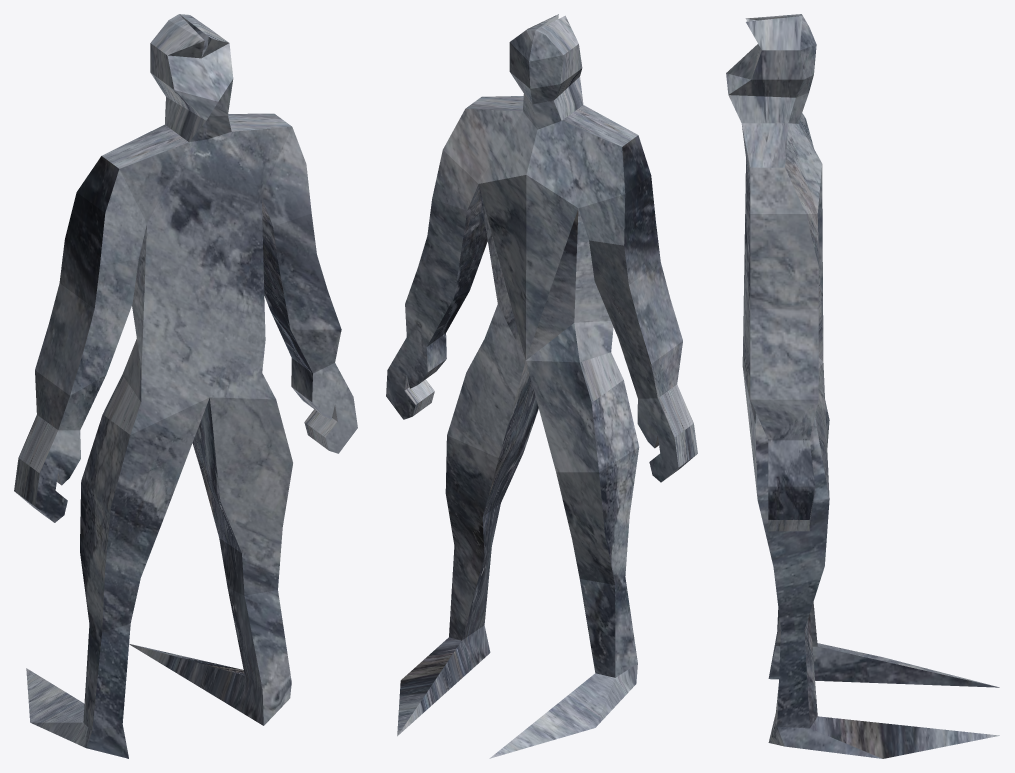
Rendered from stone_man.glb.
3 views of the same model, side by side, from view 1: azimuth 30°, elevation 25°; view 2: azimuth 150°, elevation 25°; view 3: azimuth 270°, elevation 25° (orthographic). The views are drawn at different scales.
Visible parts, largest first — view 1: Cube; view 2: Cube; view 3: Cube.
Boxes of the visible parts, left/top/right/bottom form: Cube: left=14, top=14, right=357, bottom=758; Cube: left=386, top=14, right=697, bottom=758; Cube: left=726, top=14, right=999, bottom=758.
Bounding box in the file's own units: 1.2 × 2.54 × 0.9083.
Materials: 1 (1 with a texture image).
